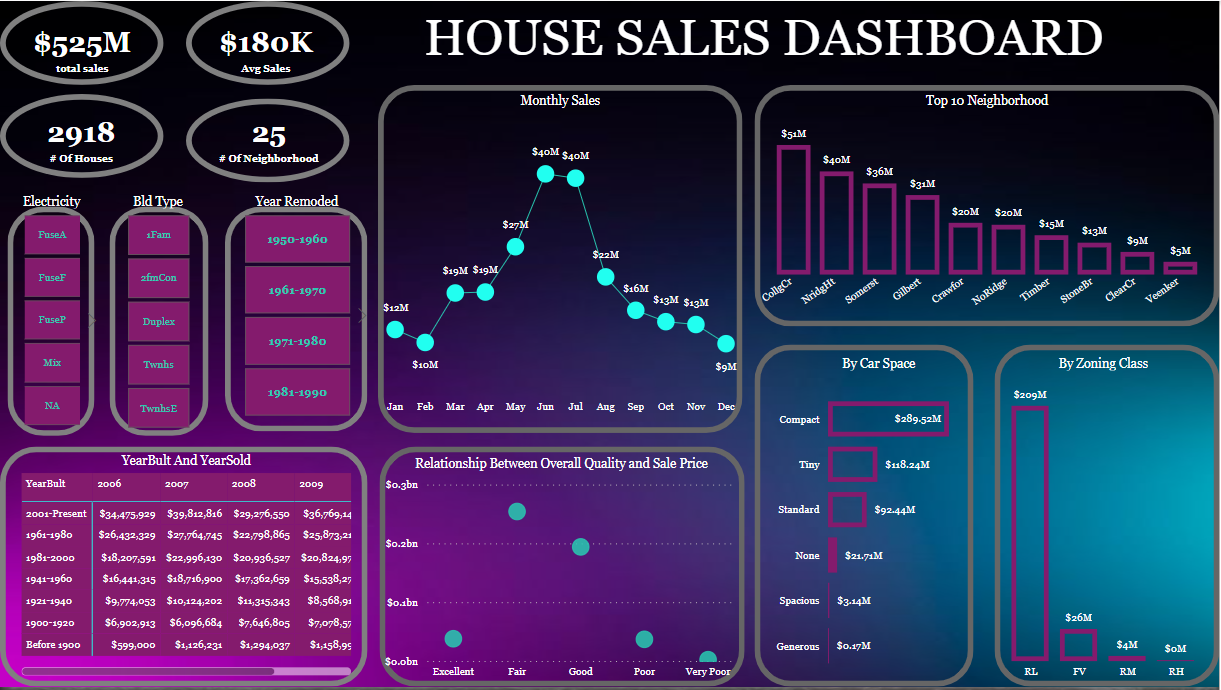

Layout of this report page (visuals, bound fields, positions):
{"tool":"powerbi","page":{"name":"Page 1","canvas":[1280,720],"ordinal":0},"visuals":[{"type":"shape","box":[397.8,467.5,383.5,252],"z":0},{"type":"shape","box":[792.3,360.7,230,359.1],"z":1000},{"type":"shape","box":[115,215.8,104,241],"z":2000},{"type":"slicer","title":"Bld Type","fields":{"Values":["Task 2.BldgType"]},"box":[109.4,202.9,114.1,252],"z":3000},{"type":"shape","box":[396.9,88.2,382.7,365.4],"z":4000},{"type":"shape","box":[792.3,88.2,488.3,253.6],"z":5000},{"type":"shape","box":[0,0,171.7,88.2],"z":6000},{"type":"shape","box":[195.3,0,171.7,88.2],"z":7000},{"type":"shape","box":[0,97.7,171.7,88.2],"z":8000},{"type":"shape","box":[0,467.8,385.9,252],"z":9000},{"type":"shape","box":[236.3,215.8,149.6,236.3],"z":10000},{"type":"shape","box":[7.9,215.8,91.4,241],"z":11000},{"type":"card","fields":{"Values":["Measure.total sales"]},"box":[0,10.1,172.2,79],"z":12000},{"type":"card","fields":{"Values":["Avg(Task 2.SalePrice)"]},"box":[194.4,10.1,170.1,79],"z":13000},{"type":"scatterChart","title":"Relationship Between Overall Quality and Sale Price","fields":{"Y":["Sum(Task 2.SalePrice)"],"X":["Task 2.OverallQuali"]},"box":[397.8,478.6,381.9,240.9],"z":14000},{"type":"pivotTable","title":"YearBult And YearSold","fields":{"Rows":["Task 2.NewYearBult"],"Values":["Sum(Task 2.SalePrice)"],"Columns":["Task 2.YrSold"]},"box":[17.4,475.4,356.6,237.7],"z":15000},{"type":"columnChart","title":"Top 10 Neighborhood","fields":{"Category":["Task 2.Neighborhood"],"Y":["Sum(Task 2.SalePrice)"]},"box":[792.3,97.7,488.3,236.3],"z":16000},{"type":"clusteredBarChart","title":"By Car Space","fields":{"Y":["Sum(Task 2.SalePrice)"],"Category":["Task 2.GarageCars"]},"box":[800.3,373.6,245,347],"z":17000},{"type":"lineChart","title":"Monthly Sales","fields":{"Category":["Task 2.MonthSold"],"Y":["Sum(Task 2.SalePrice)"]},"box":[396.9,97.7,382.7,343.4],"z":18000},{"type":"slicer","title":"Electricity","fields":{"Values":["Task 2.Electrical"]},"box":[0,202.9,107.8,248.8],"z":19000},{"type":"slicer","title":"Year Remoded","fields":{"Values":["Task 2.YearRemod"]},"box":[231.4,202.9,160.1,239.3],"z":20000},{"type":"card","fields":{"Values":["Count(Task 2.MSSubClass)"]},"box":[0,102.4,170.1,78.8],"z":21000},{"type":"shape","box":[1044.3,360.7,236.3,359.1],"z":22000},{"type":"clusteredColumnChart","title":"By Zoning Class","fields":{"Category":["Task 2.MSZoning"],"Y":["Sum(Task 2.SalePrice)"]},"box":[1036.4,373.3,244.1,346.5],"z":23000},{"type":"card","fields":{"Values":["Count(Task 2.Neighborhood)"]},"box":[196.9,105.5,170.1,75.6],"z":24000},{"type":"shape","box":[195.3,102.4,171.7,88.2],"z":25000},{"type":"textbox","box":[397.8,3.2,806.7,91.9],"z":26000}]}

Visuals, with their boxes in screenshot pixels (x1, y1, x2, y2), scaled from the page's 1280x720 canvas onto the 1221x690 screenshot:
shape: 379:448:745:689
shape: 756:346:975:689
shape: 110:207:209:438
"Bld Type" slicer: 104:194:213:436
shape: 379:85:744:435
shape: 756:85:1220:328
shape: 0:0:164:85
shape: 186:0:350:85
shape: 0:94:164:178
shape: 0:448:368:689
shape: 225:207:368:433
shape: 8:207:95:438
card - Measure.total sales: 0:10:164:85
card - Avg(Task 2.SalePrice): 185:10:348:85
"Relationship Between Overall Quality and Sale Price" scatterChart: 379:459:744:689
"YearBult And YearSold" pivotTable: 17:456:357:683
"Top 10 Neighborhood" columnChart: 756:94:1220:320
"By Car Space" clusteredBarChart: 763:358:997:689
"Monthly Sales" lineChart: 379:94:744:423
"Electricity" slicer: 0:194:103:433
"Year Remoded" slicer: 221:194:373:424
card - Count(Task 2.MSSubClass): 0:98:162:174
shape: 996:346:1220:689
"By Zoning Class" clusteredColumnChart: 989:358:1220:689
card - Count(Task 2.Neighborhood): 188:101:350:174
shape: 186:98:350:183
textbox: 379:3:1149:91
